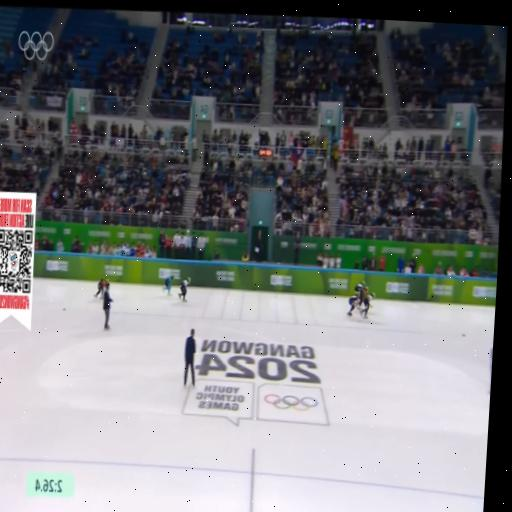Skater: (345, 291, 361, 318), (354, 285, 370, 312), (361, 287, 374, 318), (160, 274, 175, 298), (354, 280, 367, 303), (177, 278, 189, 301)
